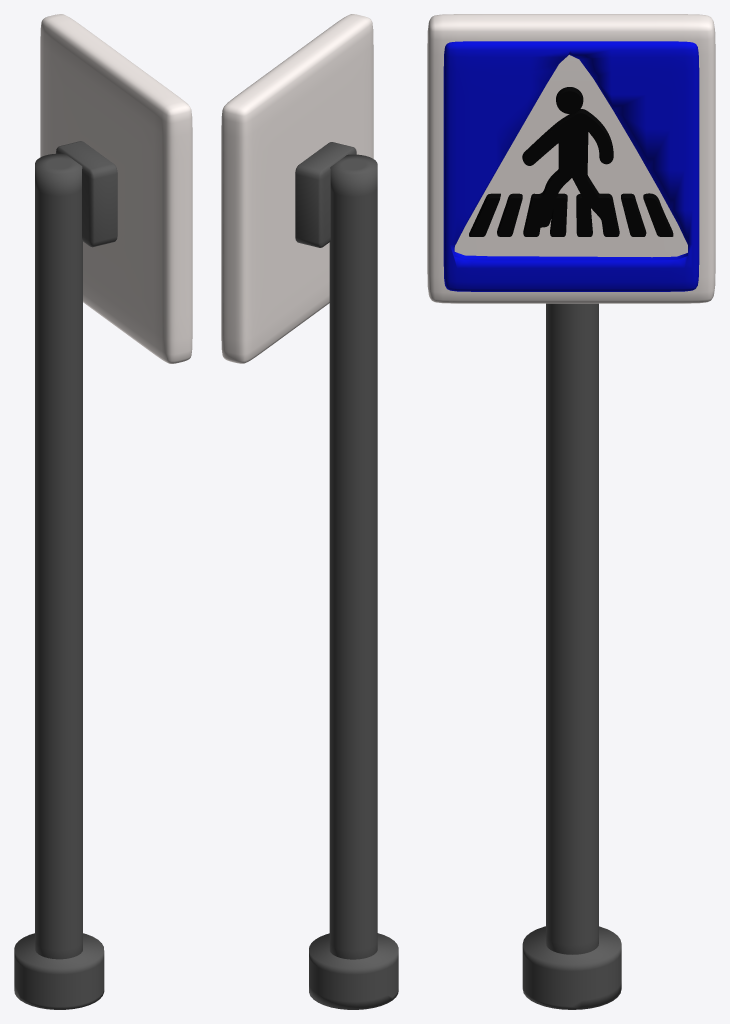
File: peatón.fbx
The picture shows the model from 3 angles, left to right: view 1: azimuth 30°, elevation 25°; view 2: azimuth 150°, elevation 25°; view 3: azimuth 270°, elevation 25°; orthographic projection. The views are drawn at different scales.
Visible parts, largest first — view 1: Peatones; view 2: Peatones; view 3: Peatones.
Part boxes in pixels (left/top/right/bottom): Peatones: left=14, top=14, right=192, bottom=1009; Peatones: left=221, top=14, right=398, bottom=1009; Peatones: left=427, top=14, right=715, bottom=1009.
Bounding box in the file's own units: 244 × 1836 × 479.
